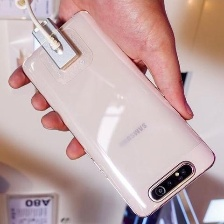phone: (18, 7, 218, 221)
